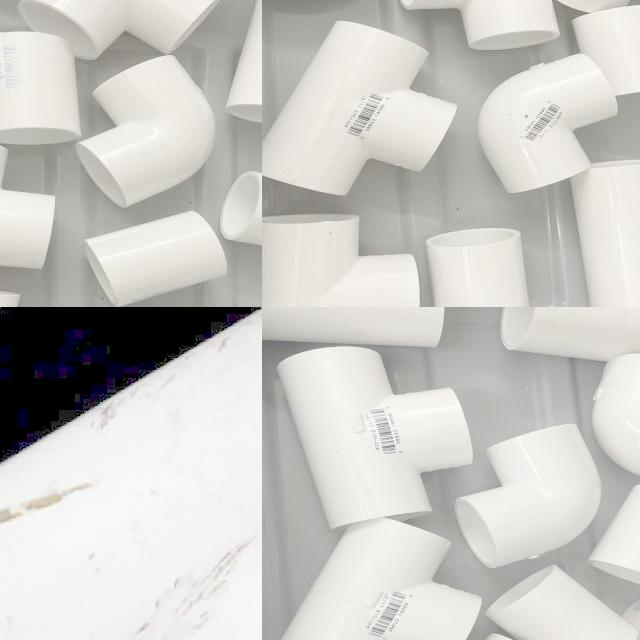Defective: (146, 543, 254, 640), (72, 359, 262, 413), (0, 483, 121, 557)
L Joint: (75, 56, 210, 208), (478, 54, 619, 197), (18, 0, 220, 62), (399, 0, 560, 53), (0, 145, 55, 272)
T Joint: (0, 308, 262, 640), (262, 22, 458, 199), (262, 213, 422, 307), (580, 160, 640, 307)
